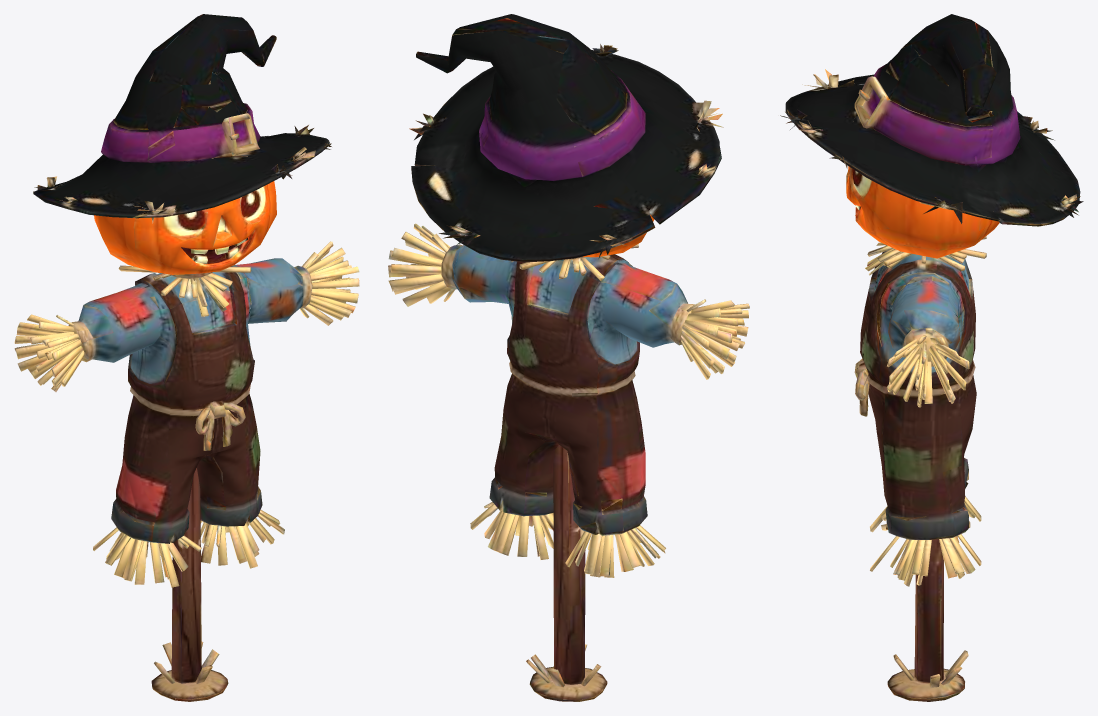
File: prop_scarecrow.glb
3 renders of one model, left to right at view 1: azimuth 30°, elevation 25°; view 2: azimuth 150°, elevation 25°; view 3: azimuth 270°, elevation 25°, orthographic. The views are drawn at different scales.
Parts seen in each view (by area): view 1: prop_scarecrow; view 2: prop_scarecrow; view 3: prop_scarecrow.
Part boxes in pixels (x1,y1,x2,y2): prop_scarecrow: (14,14,359,701); prop_scarecrow: (388,14,749,701); prop_scarecrow: (780,14,1083,701).
Bounding box in the file's own units: 1.75 × 3.3 × 1.34.
Materials: 1 (1 with a texture image).
